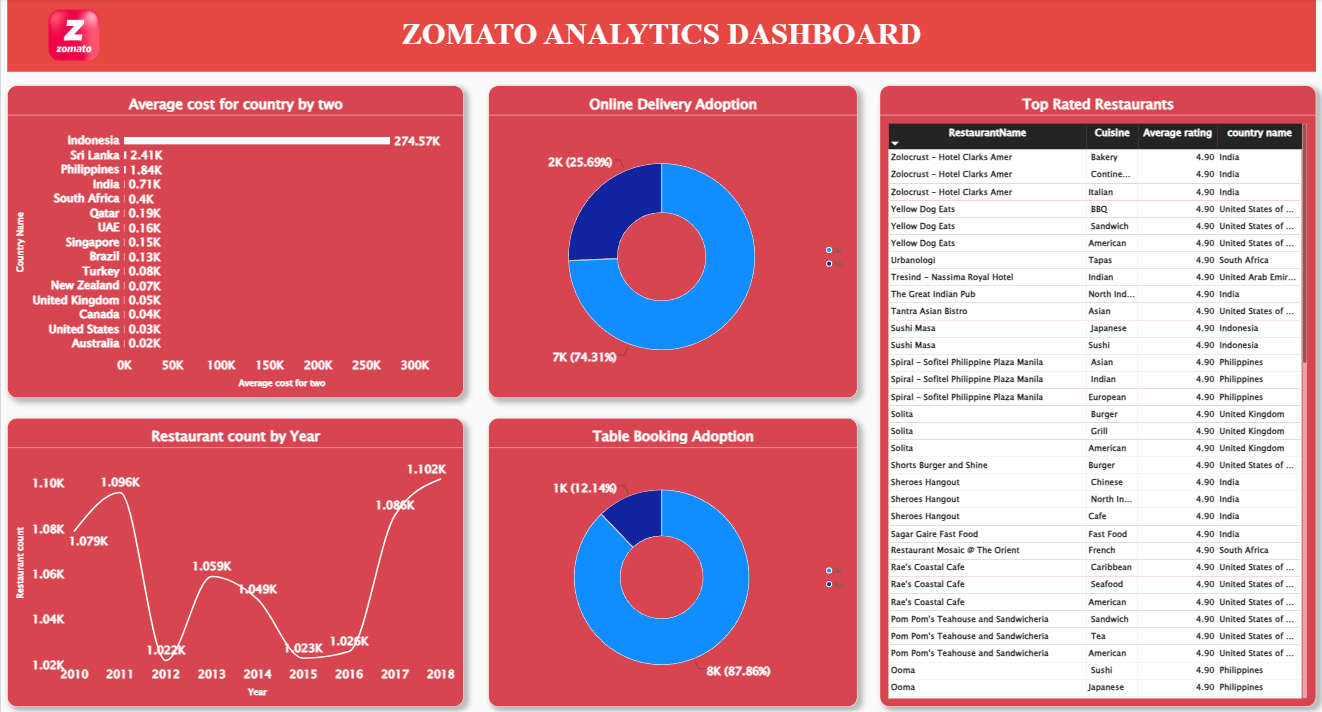

Layout of this report page (visuals, bound fields, positions):
{"tool":"powerbi","page":{"name":"Page 2","canvas":[2560,1440],"ordinal":1},"visuals":[{"type":"textbox","box":[12.1,0,2526.3,142.4],"z":0},{"type":"image","box":[56.1,10.9,170.1,119.4],"z":1000},{"type":"pieChart","title":"Table Booking Adoption","fields":{"Category":["Main Table.Has_Table_booking"],"Y":["Measure table.Restaurant count"]},"box":[941,810.7,711.8,557.4],"z":2000},{"type":"donutChart","title":"Online Delivery Adoption","fields":{"Category":["Main Table.Has_Online_delivery"],"Y":["Measure table.Restaurant count"]},"box":[941,168.9,711.8,603.2],"z":3000},{"type":"clusteredBarChart","title":"Average cost for country by two","fields":{"Category":["Main Table.Country Name"],"Y":["Measure table.Average cost for two"]},"box":[12.1,168.9,880.7,603.2],"z":4000},{"type":"lineChart","fields":{"Category":["Main Table.Datekey_Opening.Variation.Date Hierarchy.Year","Main Table.Datekey_Opening.Variation.Date Hierarchy.Month"],"Y":["Measure table.Restaurant count"]},"box":[12.1,810.7,880.7,557.4],"z":5000},{"type":"tableEx","title":"Top Rated Restaurants","fields":{"Values":["Restaurant table.RestaurantName","Main Table.Cuisine","Measure table.Average rating","country table.country name"]},"box":[1696.3,168.9,842.1,1199.2],"z":6000}]}

Visuals, with their boxes on the page's 2560x1440 design canvas (x1, y1, x2, y2). These are canvas units, not pixel positions in the 1322x712 screenshot, which may show the page scaled, cropped or inside an application window:
textbox: 12:0:2538:142
image: 56:11:226:130
"Table Booking Adoption" pieChart: 941:811:1653:1368
"Online Delivery Adoption" donutChart: 941:169:1653:772
"Average cost for country by two" clusteredBarChart: 12:169:893:772
lineChart - Main Table.Datekey_Opening.Variation.Date Hierarchy.Year x Main Table.Datekey_Opening.Variation.Date Hierarchy.Month: 12:811:893:1368
"Top Rated Restaurants" tableEx: 1696:169:2538:1368
